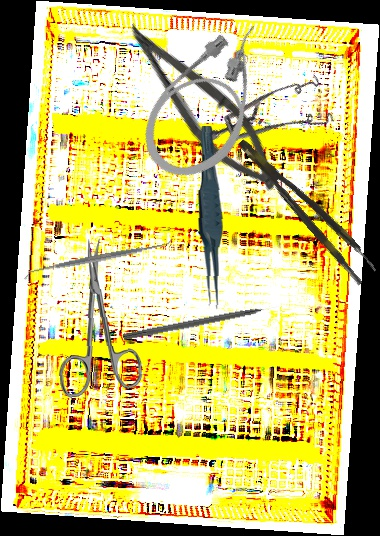Cannula: (125, 7, 300, 196)
Hook Surgical: (122, 302, 281, 343)
Iris Scissors: (54, 237, 144, 398)
Micro Scissor: (106, 12, 297, 203)
Spatula Surgical: (20, 235, 176, 282)
Speculum: (199, 47, 349, 197)
Tissue Forceps: (236, 127, 379, 287), (193, 126, 227, 311)
